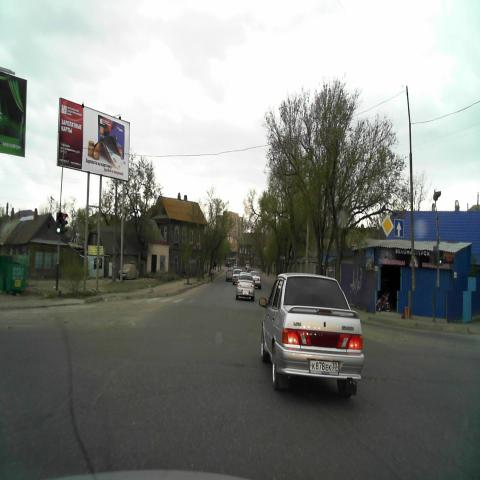5_5: (394, 218, 404, 236)
